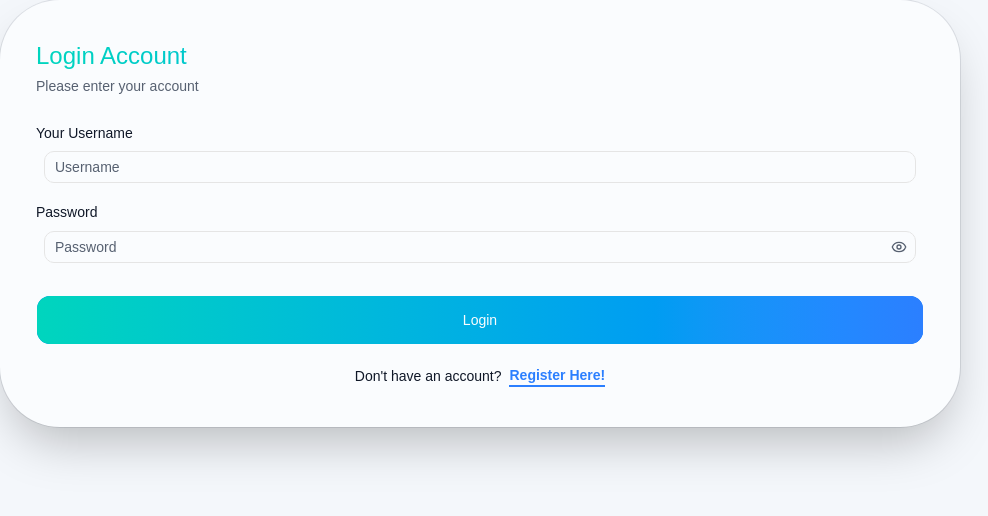
Test: Login Page › handles generic server errors when response data is missing
Type "user" into the field labelled "Your Username" at (480,167), box [44, 151, 916, 183]
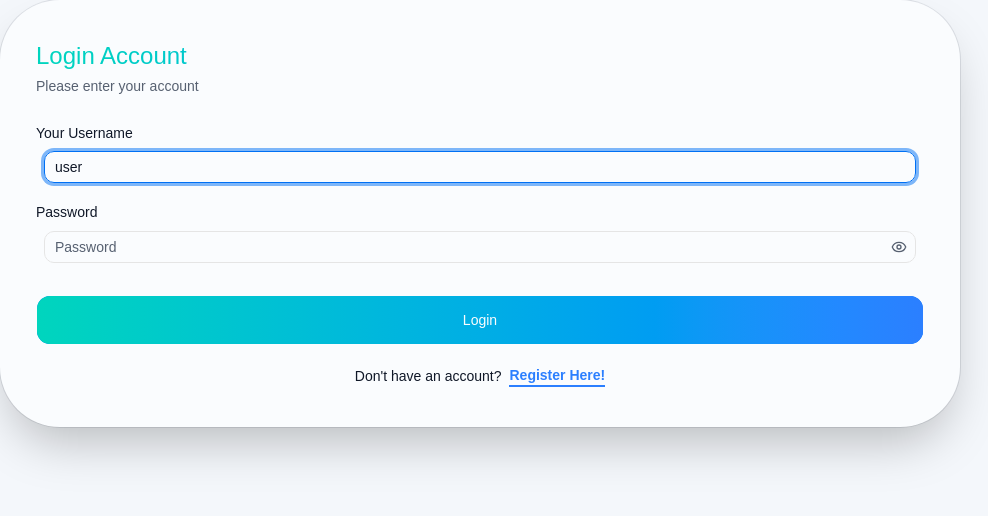
Type "pass" into the password field labelled "Password" at (468,246), box [45, 230, 891, 262]
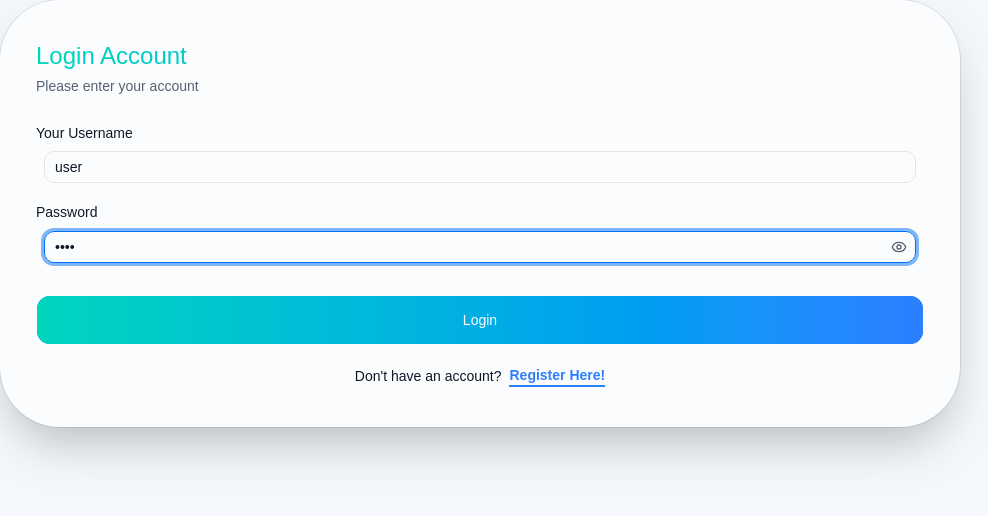
Click the button "Login" at (480,320), box [36, 294, 924, 344]
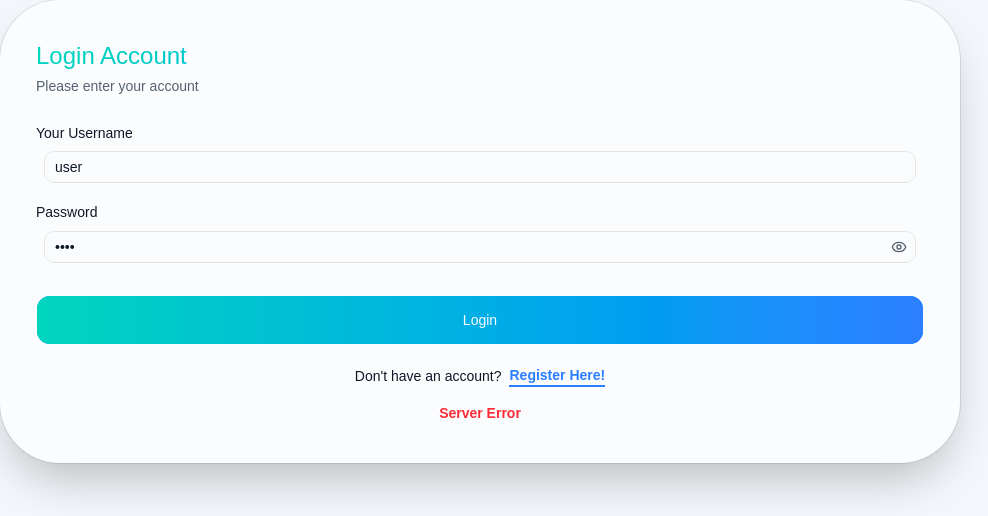
Result: the text "Server Error" is shown at [439, 404, 521, 420]
